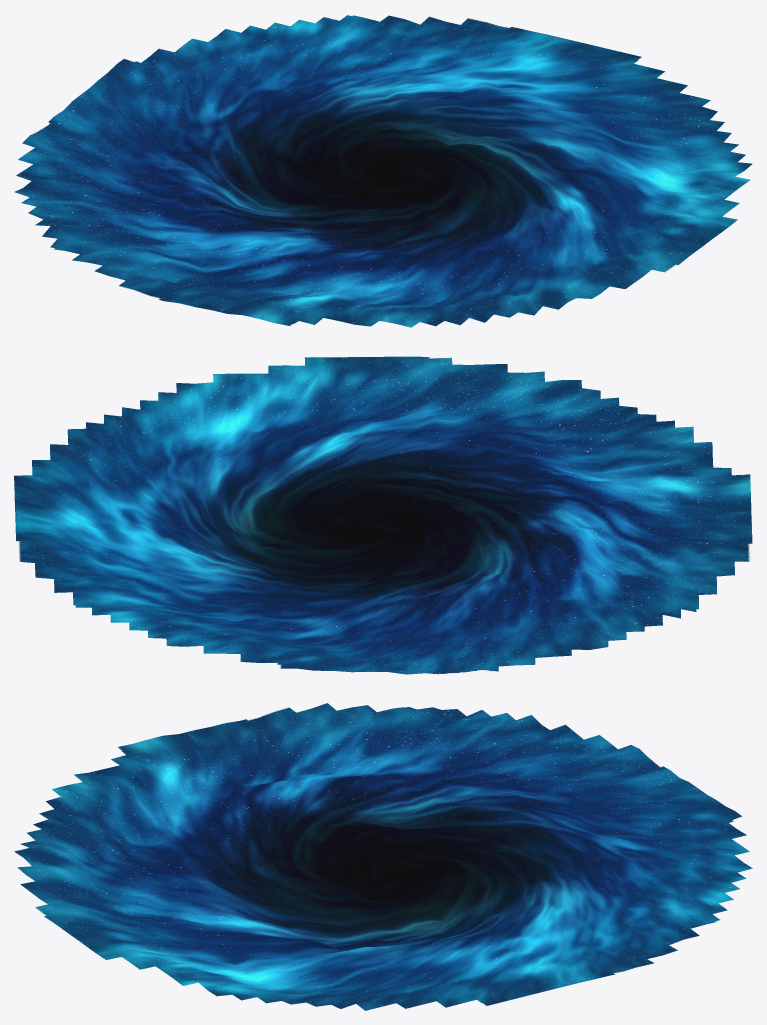
File: gate.glb
3 views of the same model, one above another, from view 1: azimuth 30°, elevation 25°; view 2: azimuth 150°, elevation 25°; view 3: azimuth 270°, elevation 25° (orthographic). The views are drawn at different scales.
Visible parts, largest first — view 1: Object_2; view 2: Object_2; view 3: Object_2.
Boxes of the visible parts, x1,y1,x2,y2 form: Object_2: [14, 14, 752, 327]; Object_2: [14, 356, 752, 674]; Object_2: [14, 703, 752, 1010].
Bounding box in the file's own units: 3.14 × 0.1018 × 3.14.
1 material, 1 textured.
